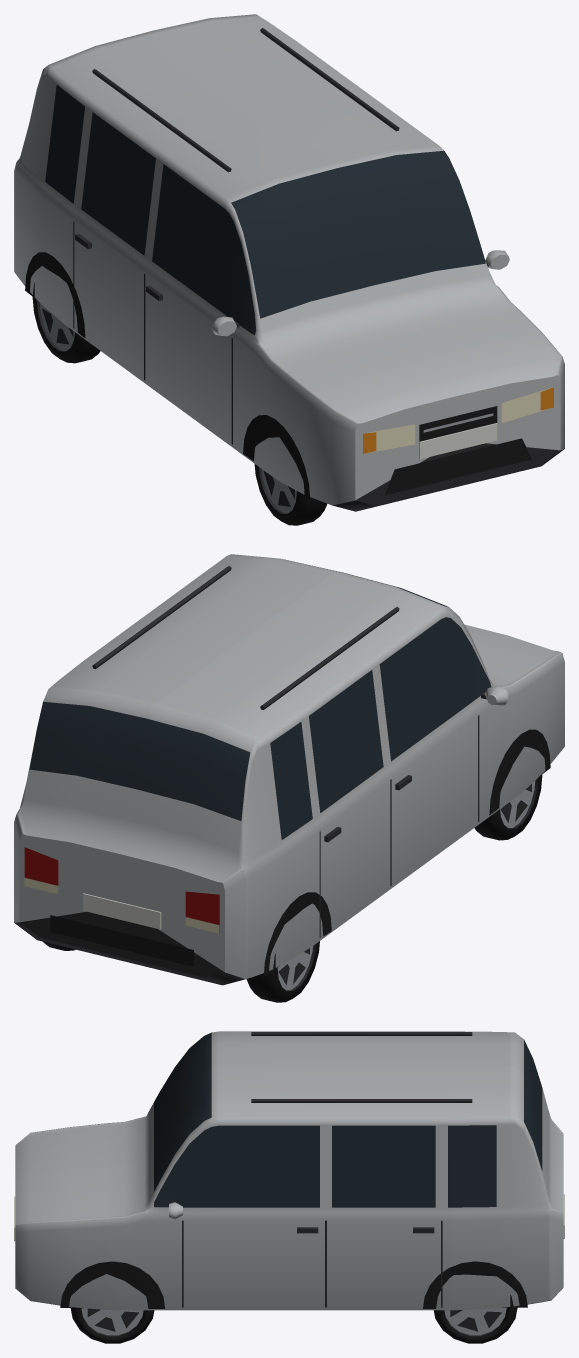
File: tallboy.glb
3 views of the same model, one above another, from view 1: azimuth 30°, elevation 25°; view 2: azimuth 150°, elevation 25°; view 3: azimuth 270°, elevation 25° (orthographic). The views are drawn at different scales.
Visible parts, largest first — view 1: tallboy; view 2: tallboy; view 3: tallboy.
Boxes of the visible parts, x1=… form: tallboy: x1=14, y1=14, x2=564, y2=525; tallboy: x1=14, y1=554, x2=564, y2=1002; tallboy: x1=14, y1=1031, x2=564, y2=1343.
Bounding box in the file's own units: 1.84 × 1.68 × 3.62.
